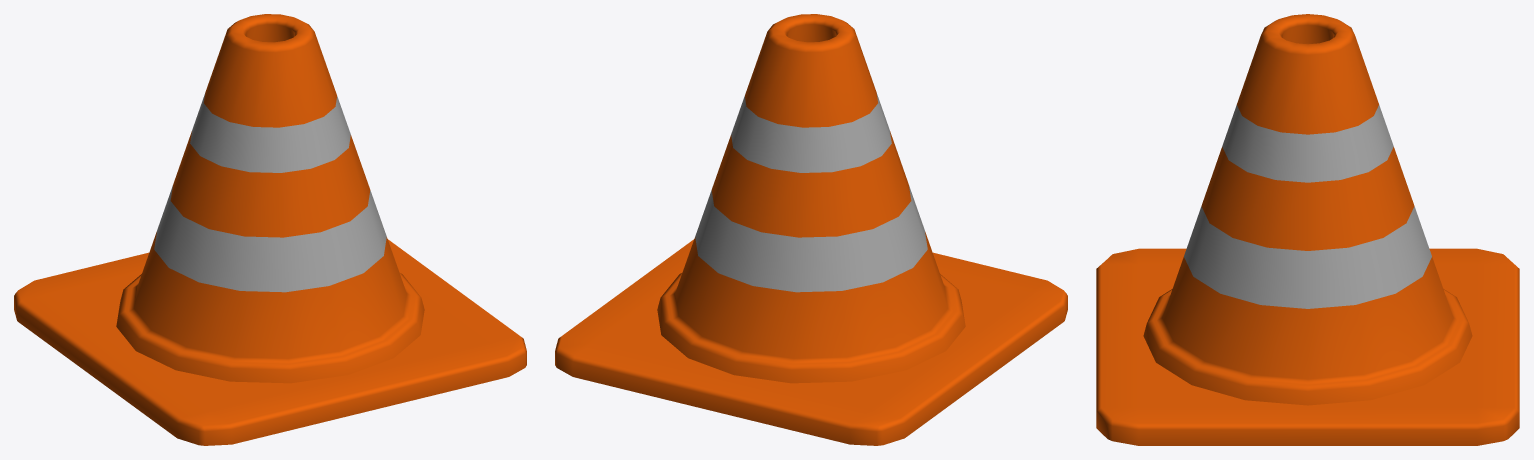
File: SM_Traffic_Cone_01.fbx
The picture shows the model from 3 angles, left to right: view 1: azimuth 30°, elevation 25°; view 2: azimuth 150°, elevation 25°; view 3: azimuth 270°, elevation 25°; orthographic projection. The views are drawn at different scales.
Parts seen in each view (by area): view 1: Traffic_Cone_01; view 2: Traffic_Cone_01; view 3: Traffic_Cone_01.
Part boxes in pixels (x1=…): Traffic_Cone_01: x1=14, y1=14, x2=526, y2=445; Traffic_Cone_01: x1=555, y1=14, x2=1067, y2=445; Traffic_Cone_01: x1=1096, y1=14, x2=1519, y2=445.
Size of the model in its own units: 182 by 154 by 182.
